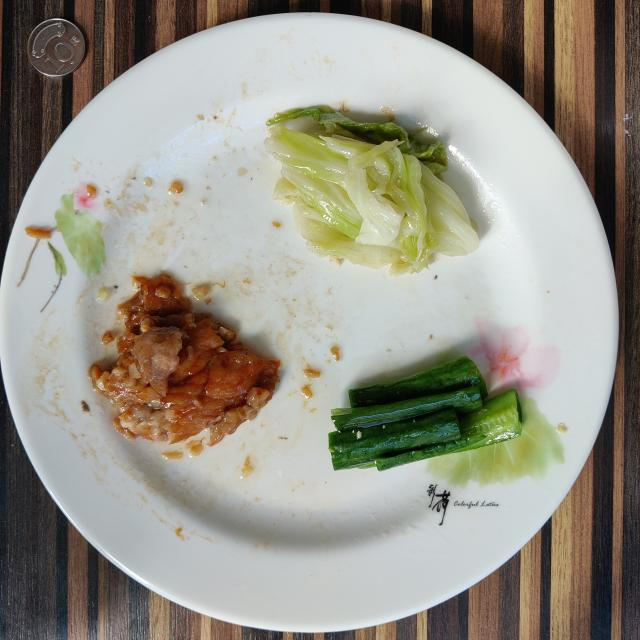Kabayaki sea bream fillet: (89, 275, 280, 444)
cabbage: (265, 106, 479, 275)
coin: (28, 18, 85, 76)
cucumber: (329, 356, 521, 470)
